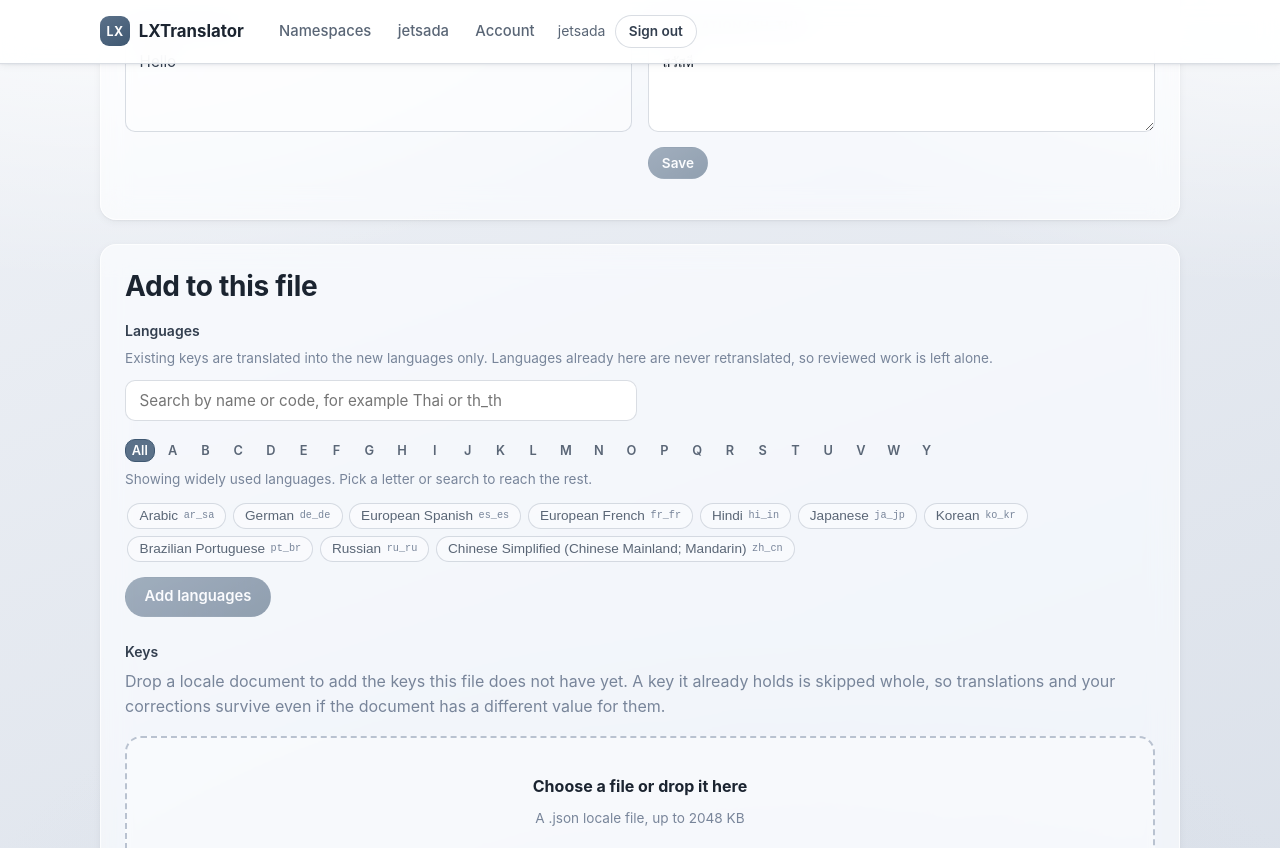
Test: translation editor › finding a language among many › reaches the rest through the A to Z index
(page scrolled)
Expected: the heading "Add to this file" is shown, x1=125 y1=269 x2=317 y2=304
Click the button "B" at (205, 451), box x1=191 y1=439 x2=220 y2=462
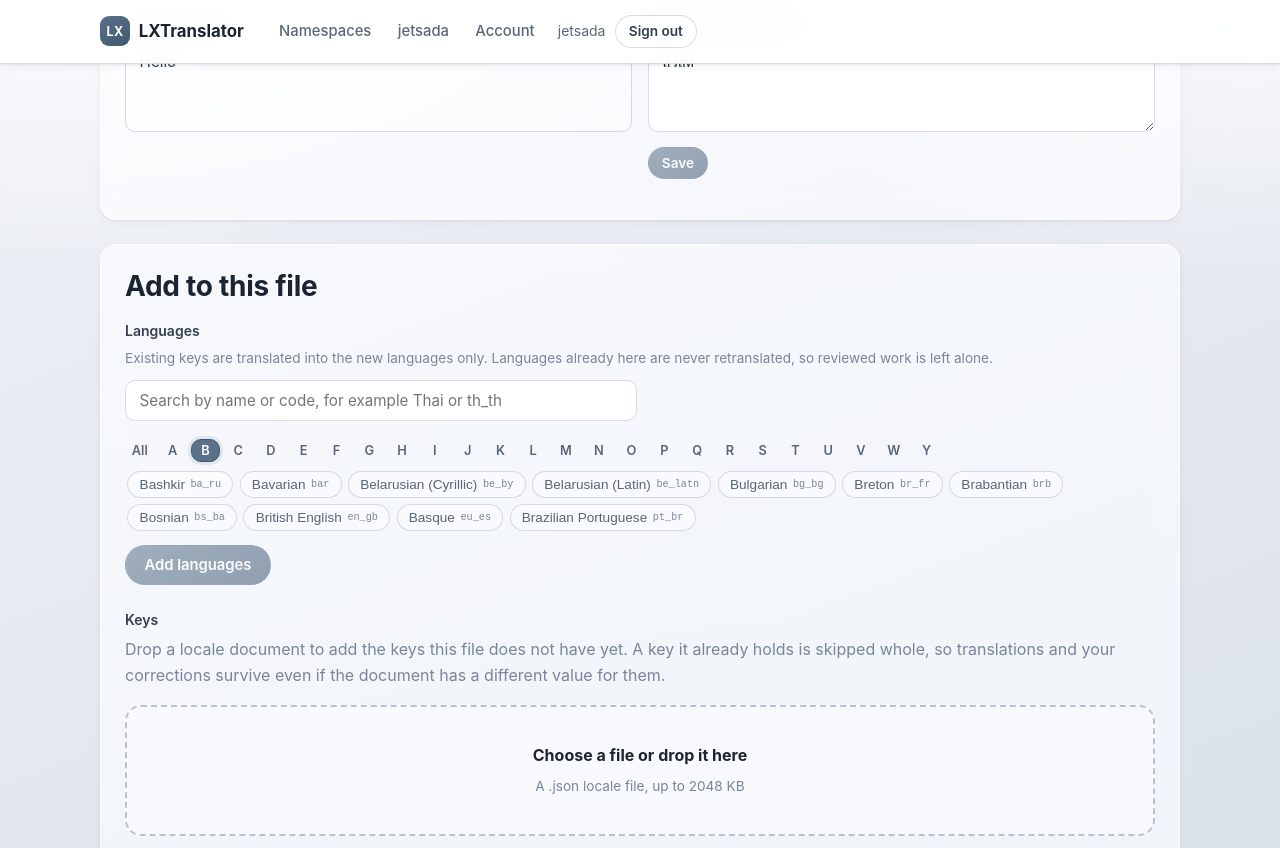
Expected: the button "Bavarian bar" is shown, x1=240 y1=471 x2=342 y2=498
Expected: the button "Japanese" is gone
